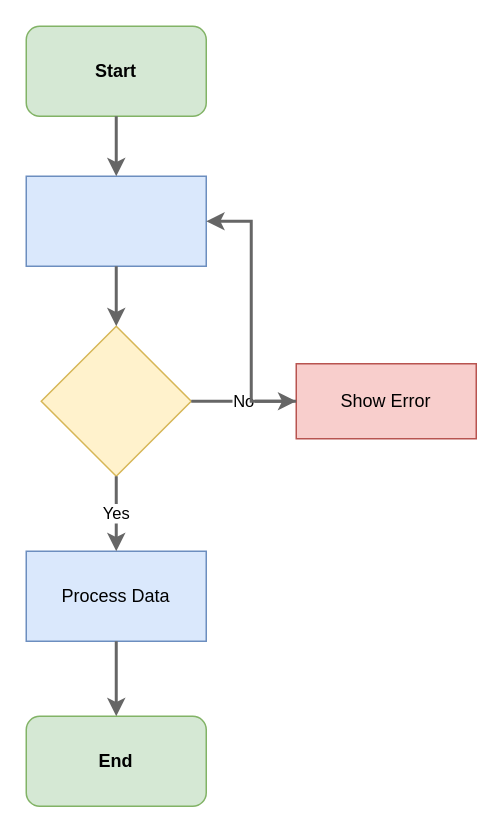
The diagram is 503 pixels wide and 833 high, and some of its shapes have lost their labels. Here are the shapes that lost their labels. From the top down, the centre of each, then its label:
At pixel 115 220: "Get User Input".
At pixel 115 400: "Valid?".
